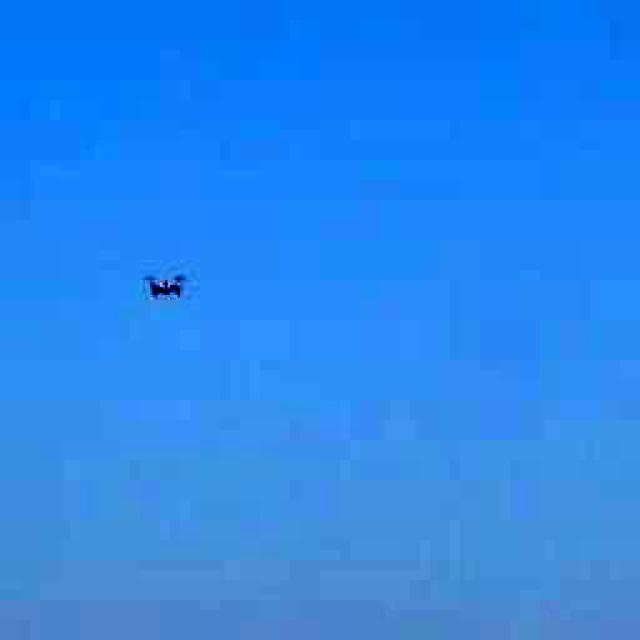bird: (129, 256, 201, 314)
